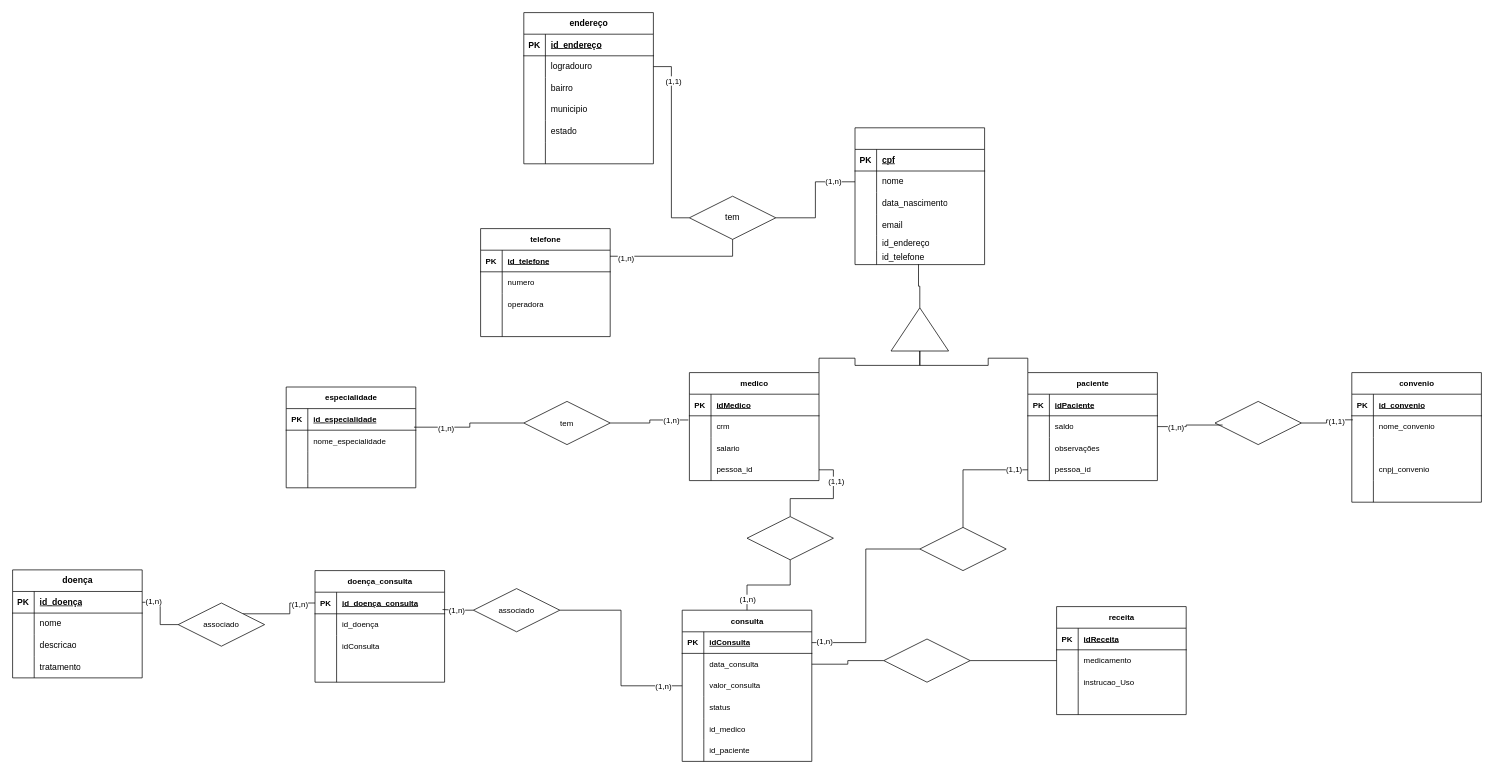
Some shapes in this 1494 by 774 pixel diagram are drawn without their labels. Each missing label, with the box of its shape:
emite: (883, 638, 970, 682)
participa: (919, 527, 1006, 571)
pessoa: (854, 127, 985, 265)
realiza: (746, 516, 833, 560)
vinculado: (1214, 401, 1301, 445)
